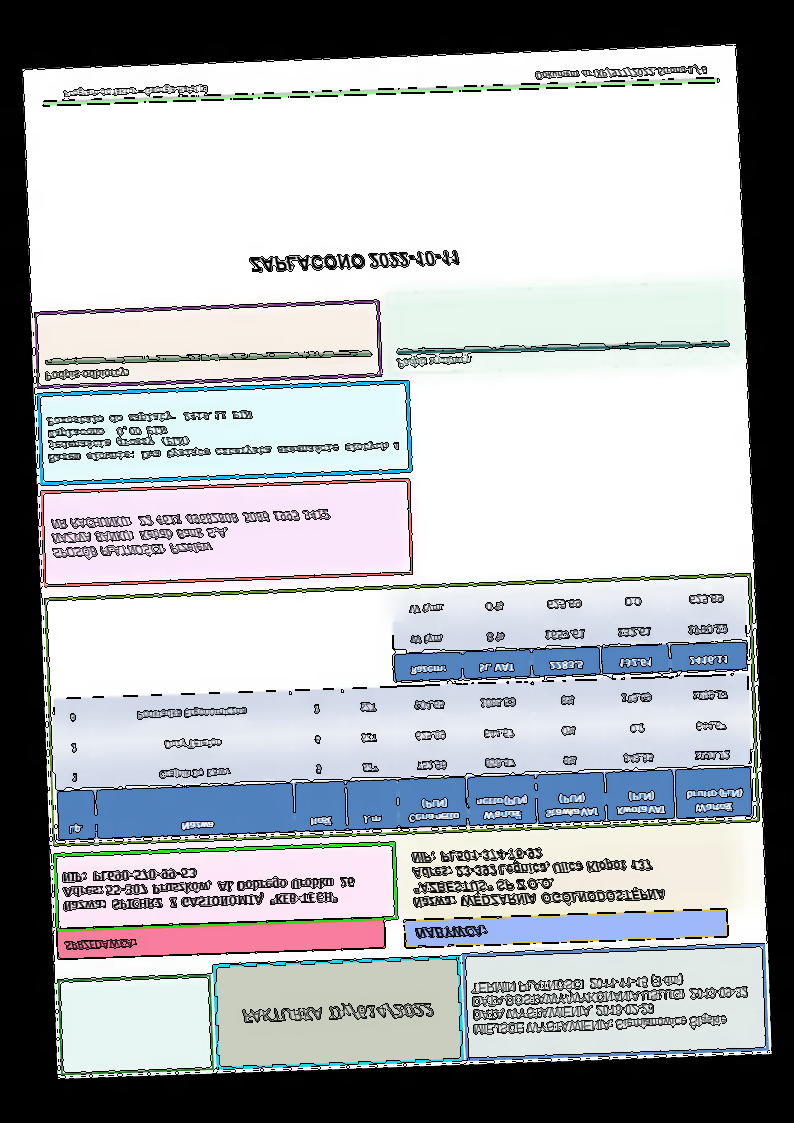Table: (51, 674, 754, 842), (390, 579, 749, 684)
TextBox: (45, 403, 399, 464), (469, 968, 751, 1038), (409, 843, 666, 911), (61, 860, 356, 914), (48, 508, 332, 561), (247, 248, 462, 276), (240, 1000, 434, 1026), (533, 63, 708, 82), (61, 82, 209, 100), (393, 352, 474, 372), (43, 365, 130, 383), (62, 935, 138, 954), (412, 923, 489, 941)
